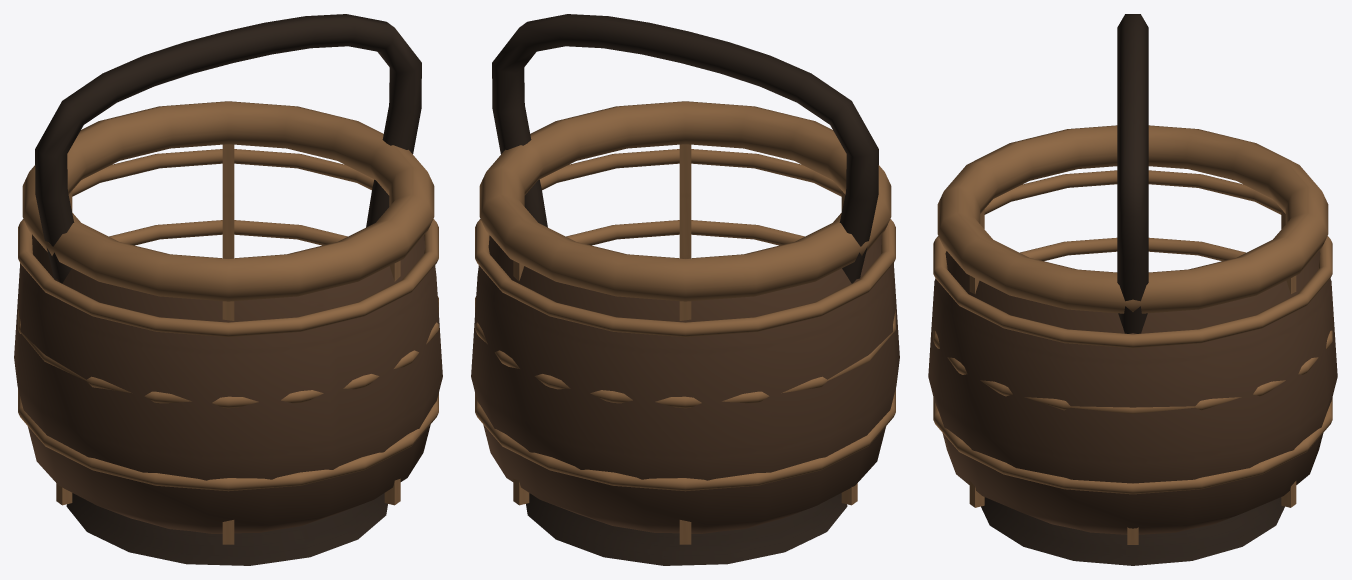
The model's file is sk-household-basket.glb.
3 renders of one model, left to right at view 1: azimuth 30°, elevation 25°; view 2: azimuth 150°, elevation 25°; view 3: azimuth 270°, elevation 25°, orthographic. The views are drawn at different scales.
Parts seen in each view (by area): view 1: household:basket-static-wood (×2), basket-body; view 2: household:basket-static-wood (×2), basket-body; view 3: basket-body, household:basket-static-wood (×2).
Boxes of the visible parts, x1,y1,x2,y2 form: household:basket-static-wood (×2): (18,14,438,565); basket-body: (14,234,442,533); household:basket-static-wood (×2): (475,14,895,565); basket-body: (471,234,899,533); basket-body: (928,251,1337,534); household:basket-static-wood (×2): (933,14,1332,565).
Bounding box in the file's own units: 0.6693 × 0.7817 × 0.66.
Materials: 3 (3 with a texture image).
